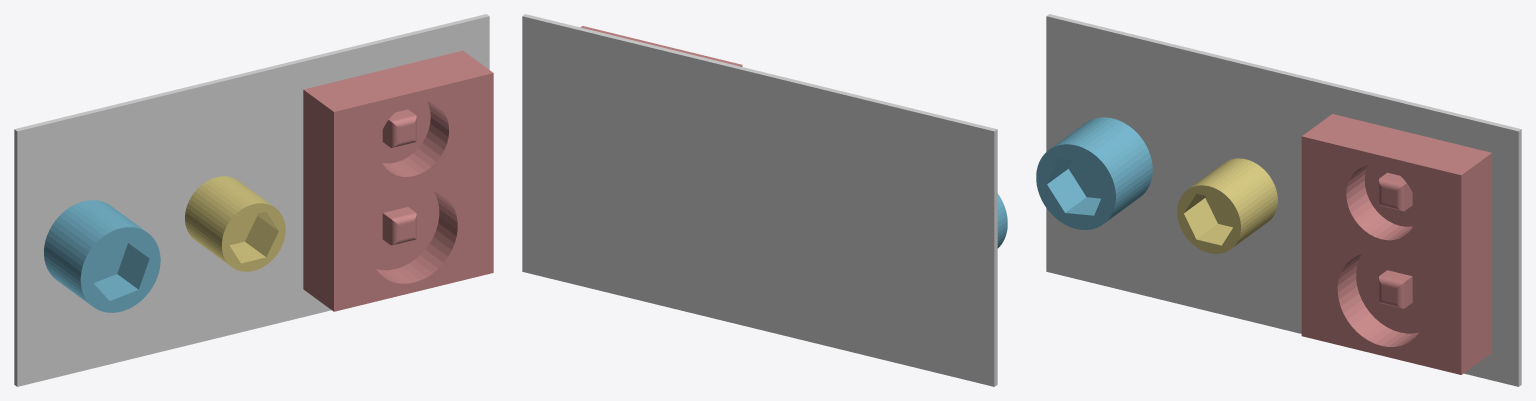
Rendered from pickup_layout.glb.
3 views of the same model, side by side, from view 1: azimuth 30°, elevation 25°; view 2: azimuth 150°, elevation 25°; view 3: azimuth 330°, elevation 25° (orthographic).
Visible parts, largest first — view 1: world, 0.obj, 2.obj, 1.obj; view 2: world, 0.obj, 2.obj; view 3: world, 0.obj, 2.obj, 1.obj.
Part boxes in pixels (x1=…): world: x1=14, y1=14, x2=489, y2=386; 0.obj: x1=303, y1=50, x2=493, y2=311; 2.obj: x1=44, y1=200, x2=160, y2=312; 1.obj: x1=185, y1=176, x2=285, y2=271; world: x1=522, y1=14, x2=997, y2=386; 0.obj: x1=580, y1=26, x2=742, y2=66; 2.obj: x1=997, y1=193, x2=1007, y2=248; world: x1=1046, y1=14, x2=1521, y2=386; 0.obj: x1=1301, y1=114, x2=1491, y2=374; 2.obj: x1=1036, y1=117, x2=1152, y2=229; 1.obj: x1=1177, y1=158, x2=1277, y2=253.
Size of the model in its own units: 17.75 by 9.17 by 2.6.
